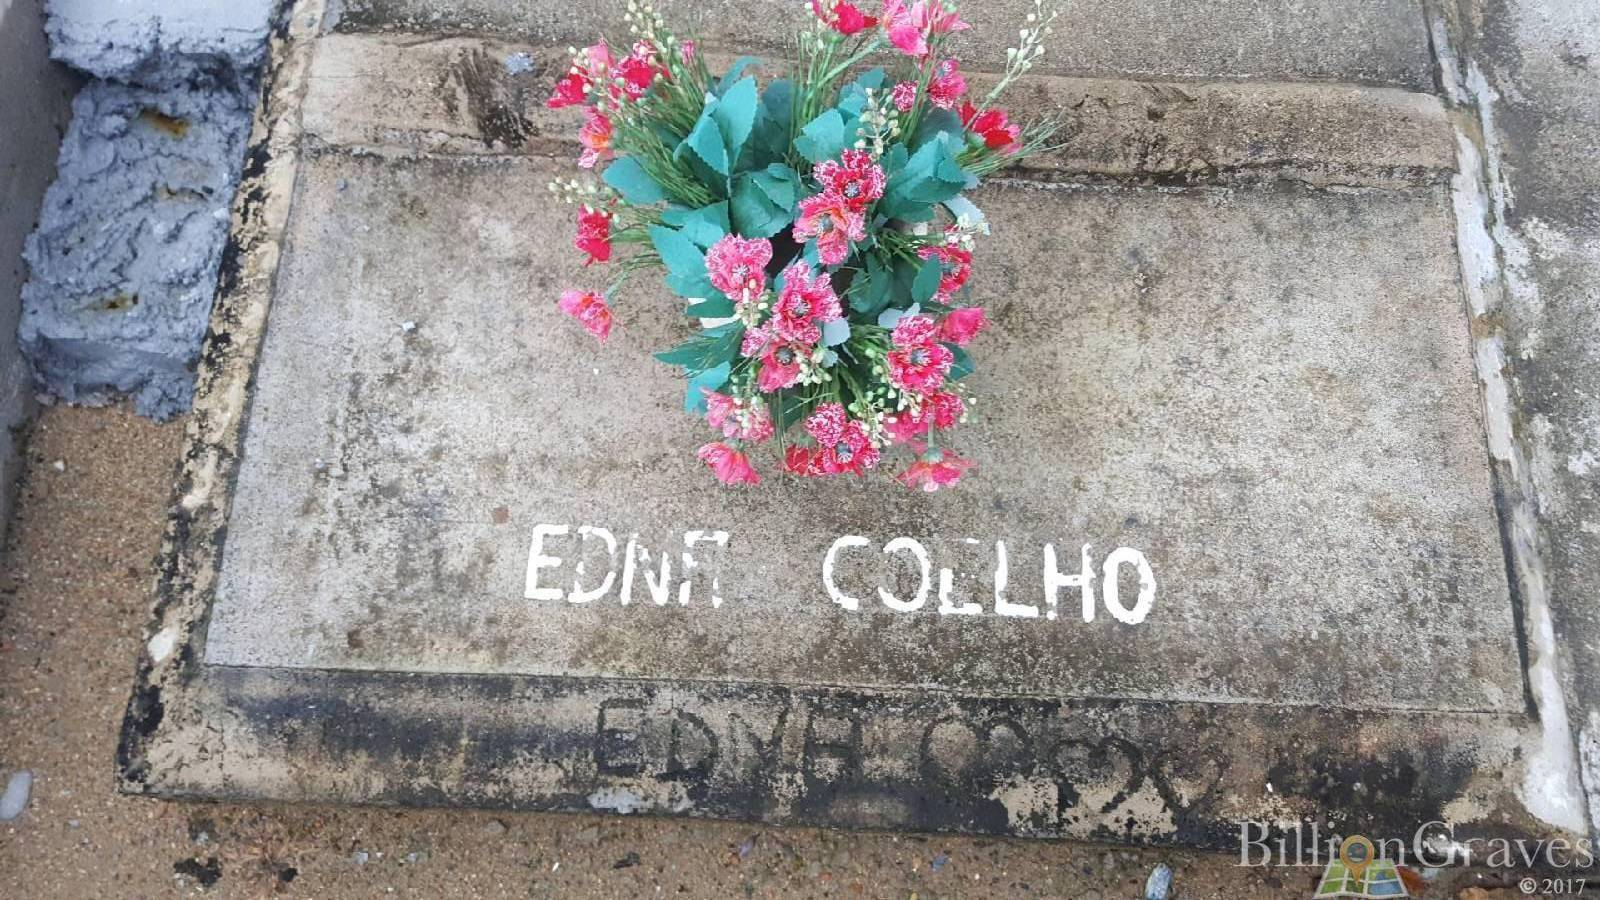flat: (118, 22, 1587, 857)
